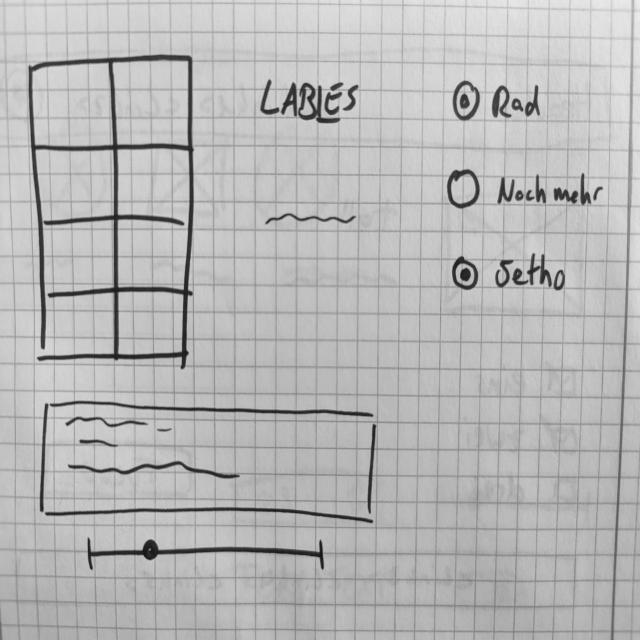label: (258, 76, 364, 126)
radio: (446, 164, 606, 212), (450, 250, 570, 296), (448, 78, 546, 124)
slider: (86, 536, 327, 572)
table: (28, 51, 195, 365)
text: (262, 206, 362, 230)
textbox: (39, 398, 382, 525)
